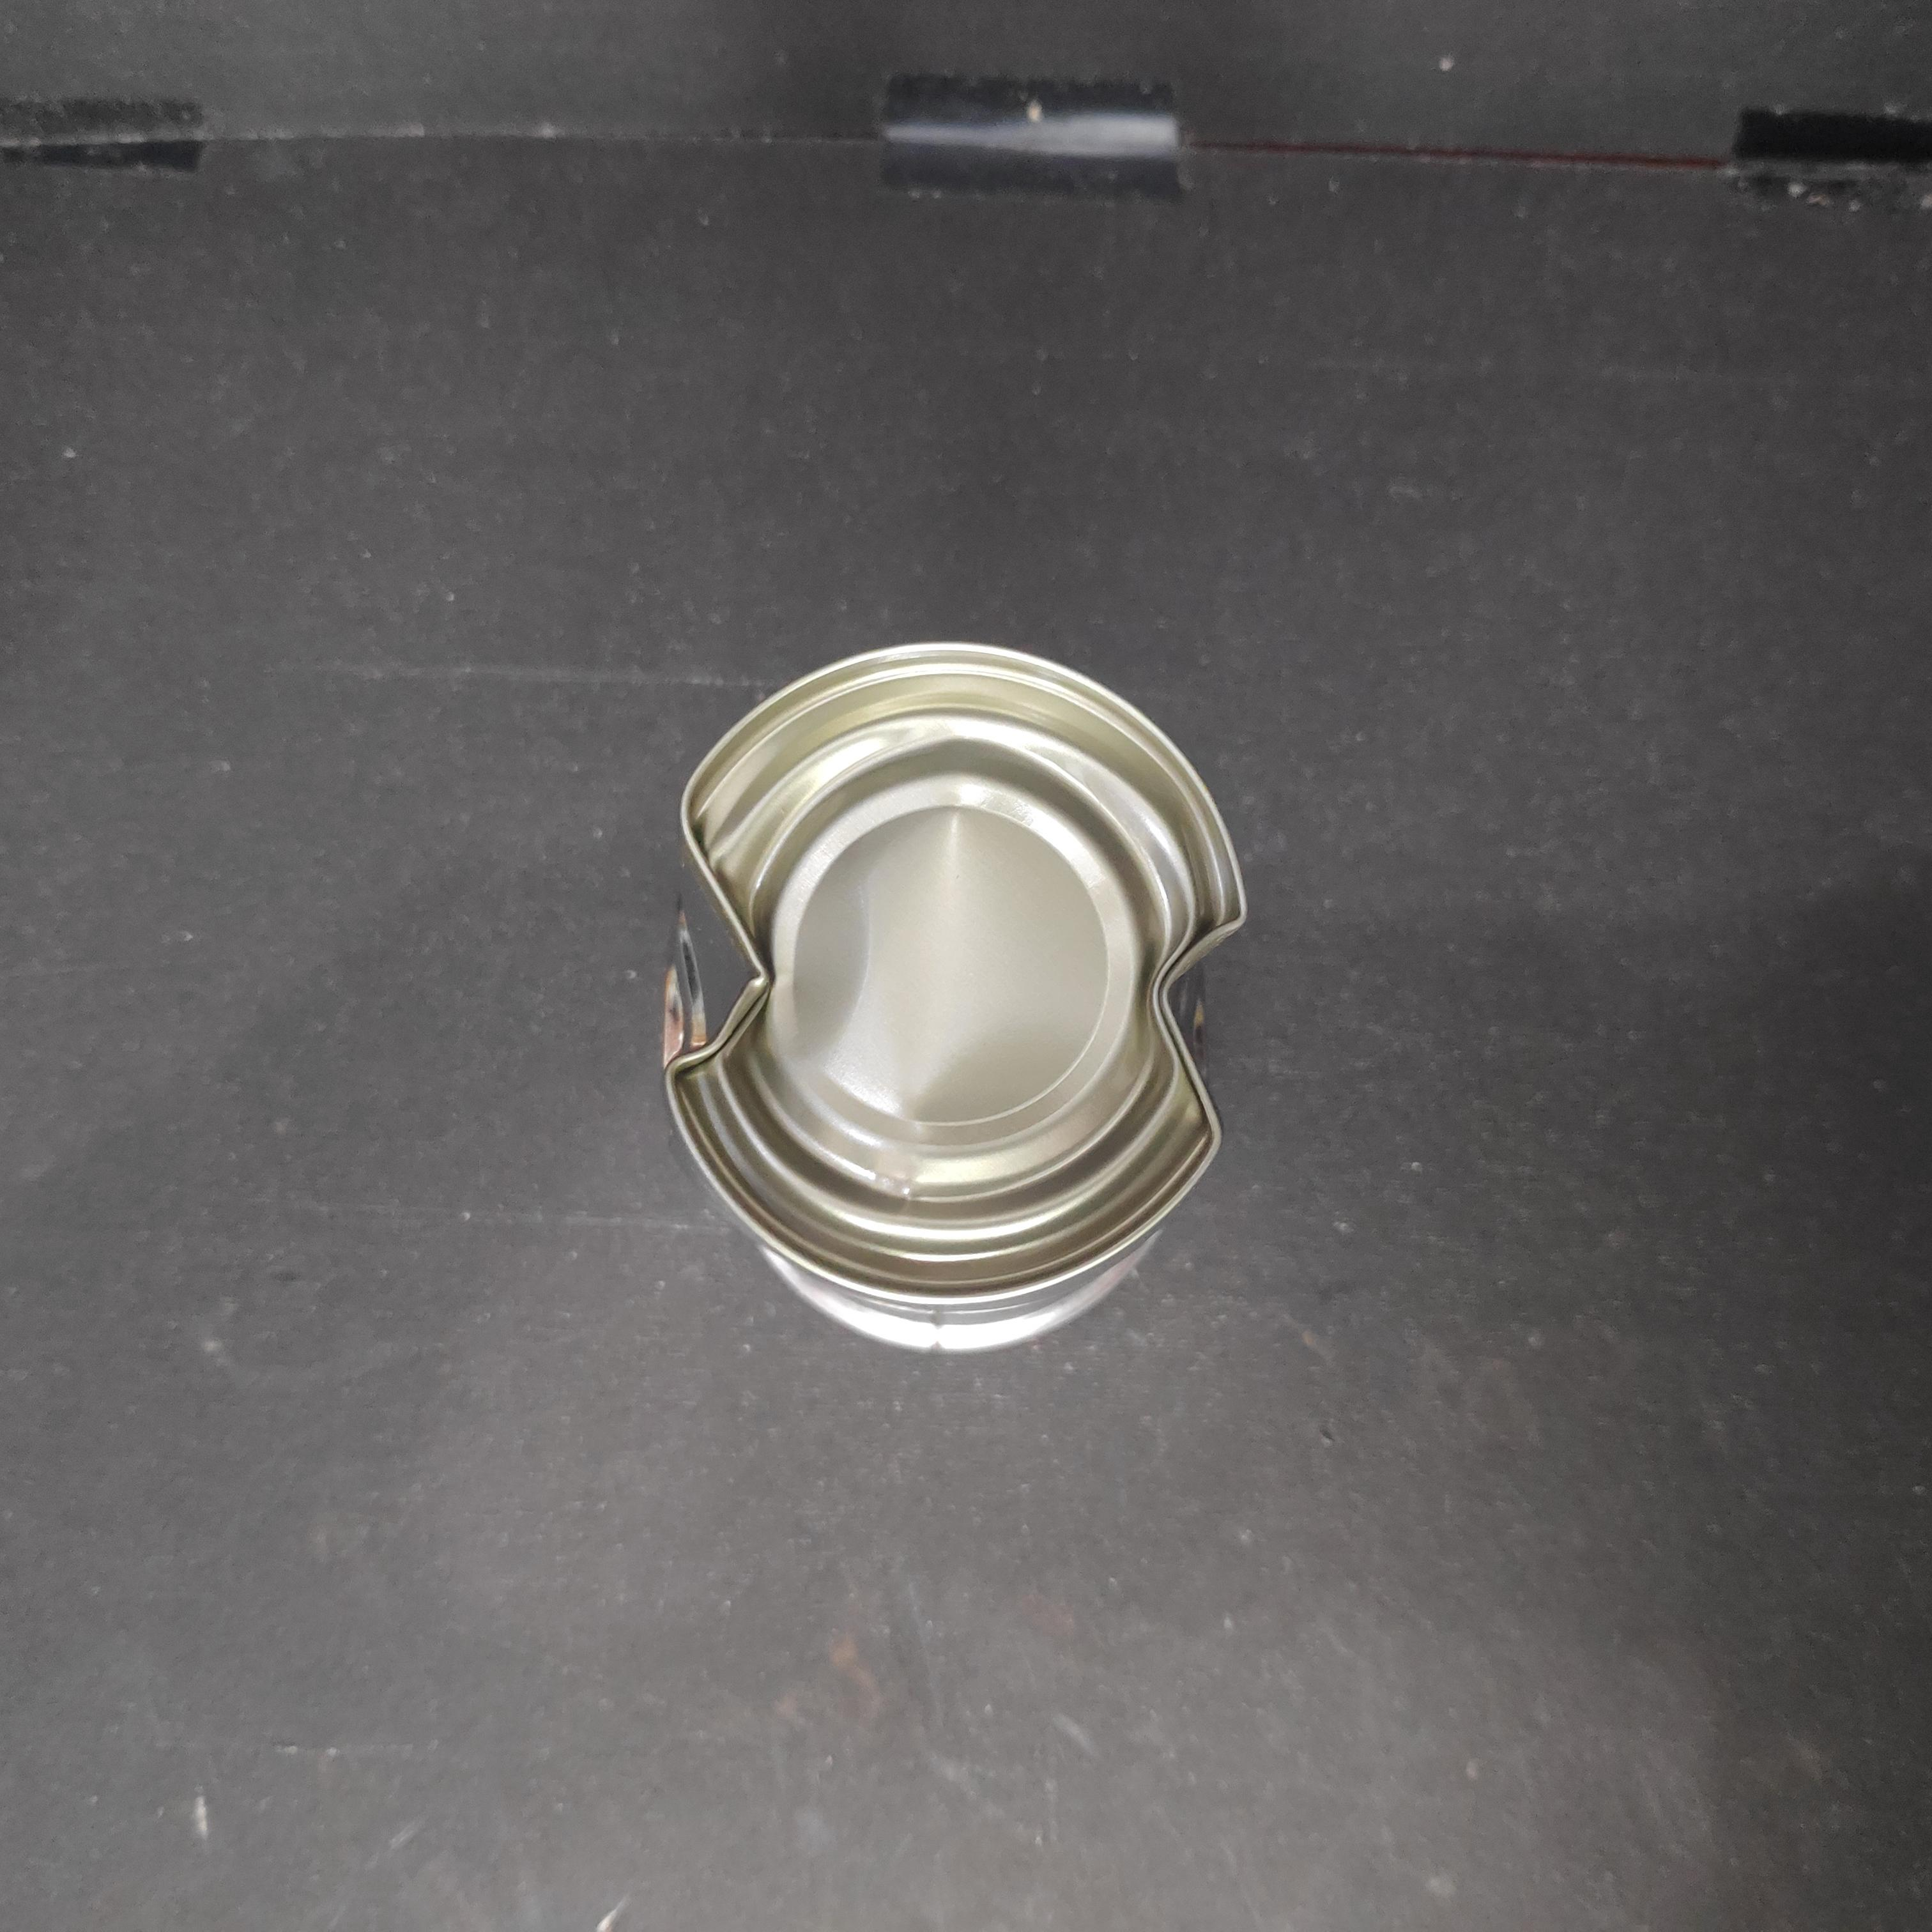Critical Defect: (649, 623, 1260, 1362)
